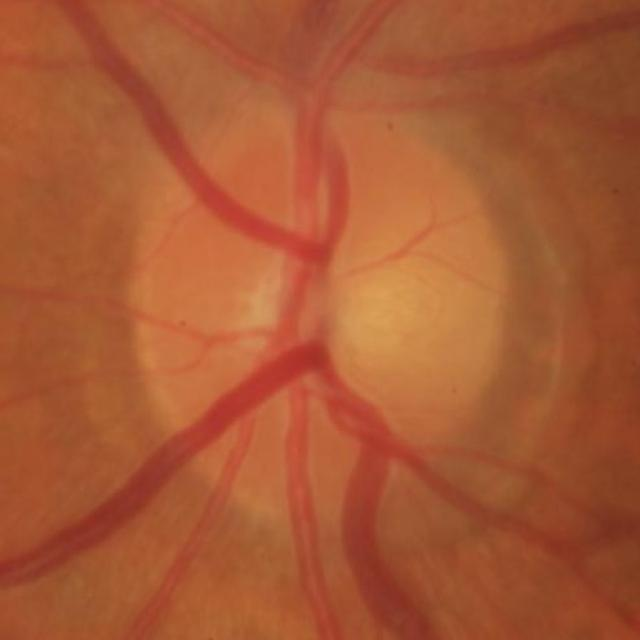OC: (235, 241, 389, 384)
OD: (126, 100, 525, 526)
